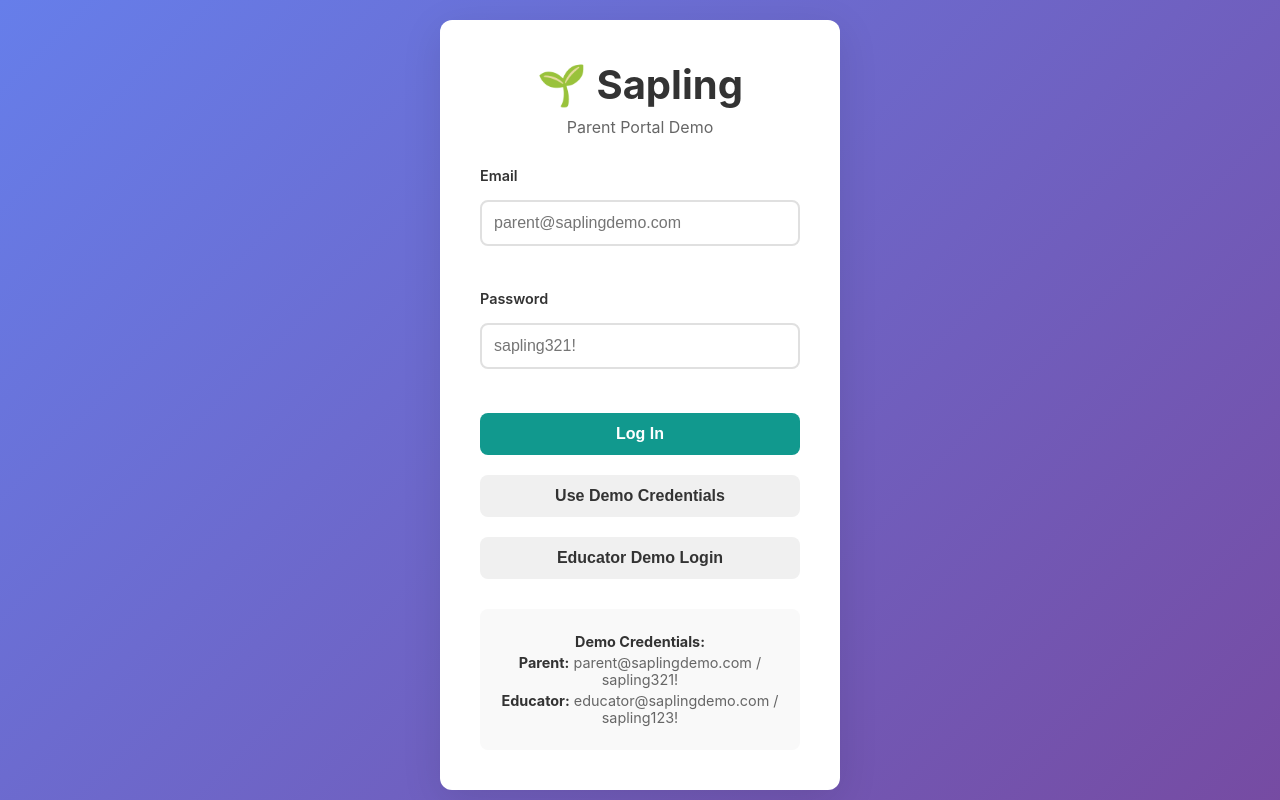
Scenario: LoginForm › shows error message with invalid credentials
The image size is (1280, 800).
Type "wrong@email.com" into the field labelled "Email" at (640, 223), box x1=480 y1=200 x2=800 y2=246
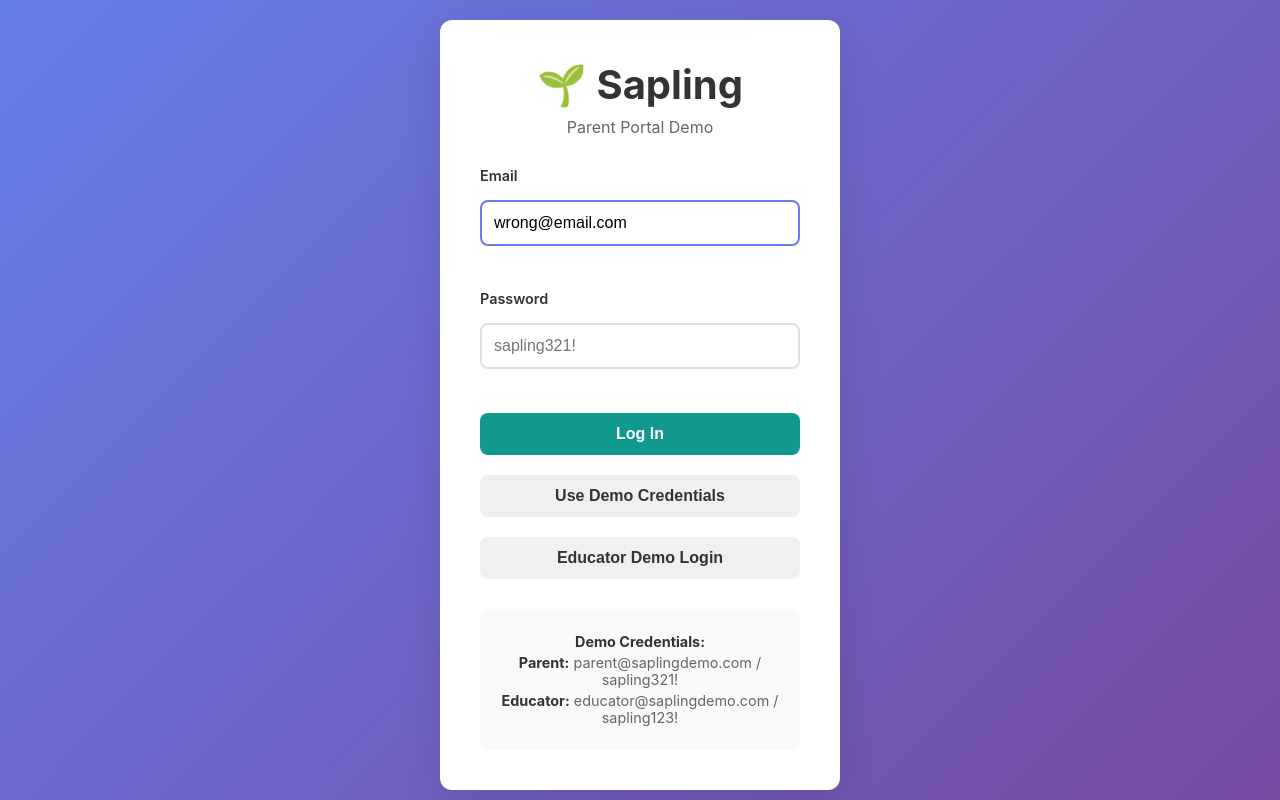
Type "wrongpassword" into the password field labelled "Password" at (640, 346), box x1=480 y1=323 x2=800 y2=369
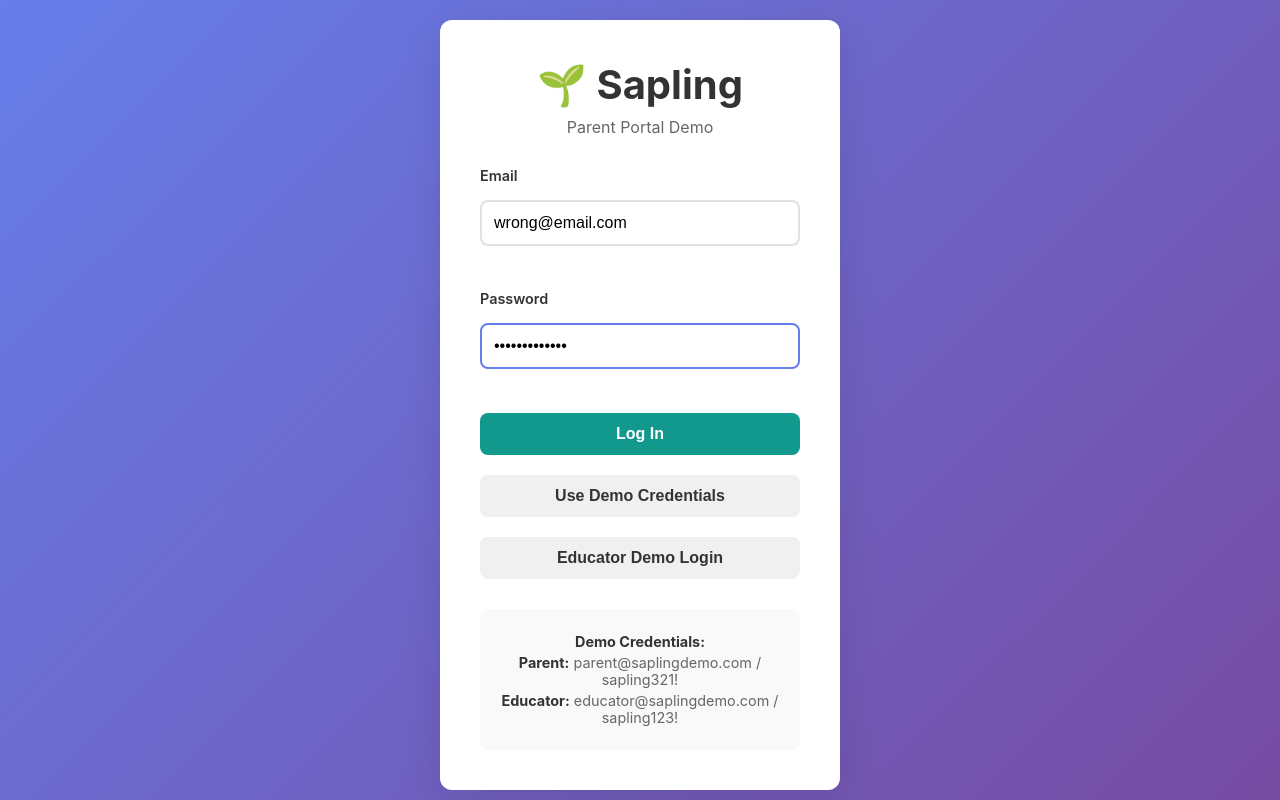
Click the button "Log In" at (640, 434), box x1=480 y1=413 x2=800 y2=455
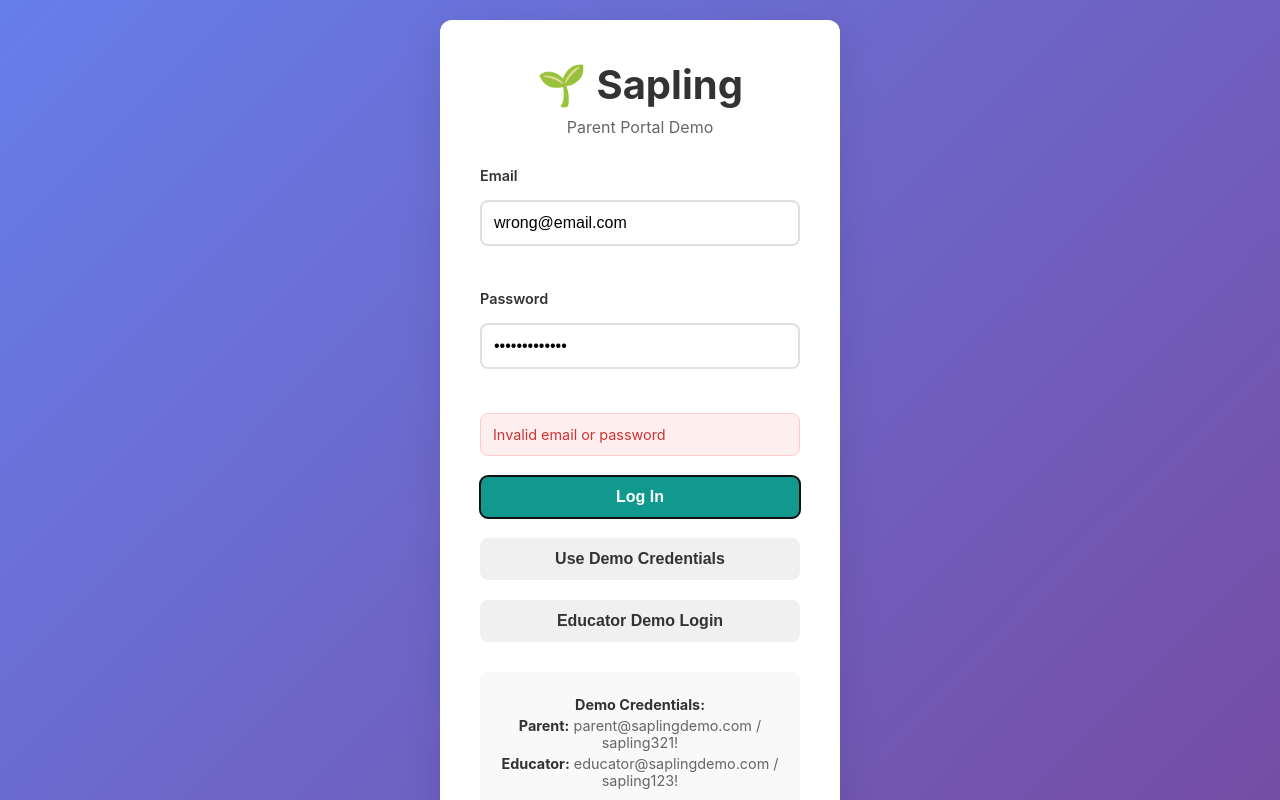
Check: the text "Invalid email or password" is shown, box x1=480 y1=413 x2=800 y2=456
